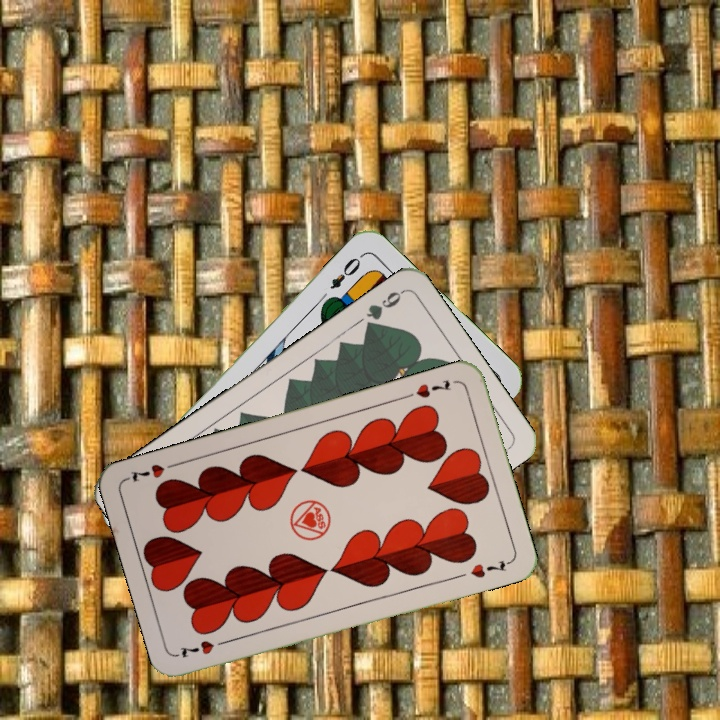EO: (326, 250, 367, 292)
G9: (361, 286, 406, 334)
H7: (174, 635, 232, 661), (401, 375, 453, 402)
